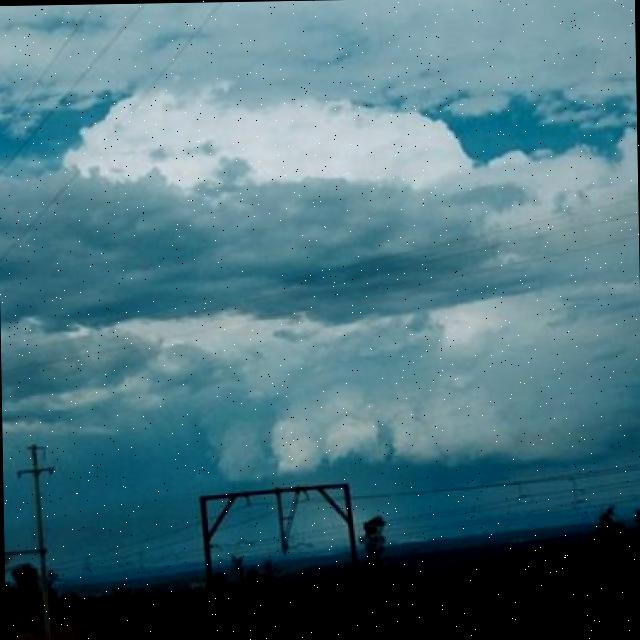Ac: (1, 1, 640, 394)
